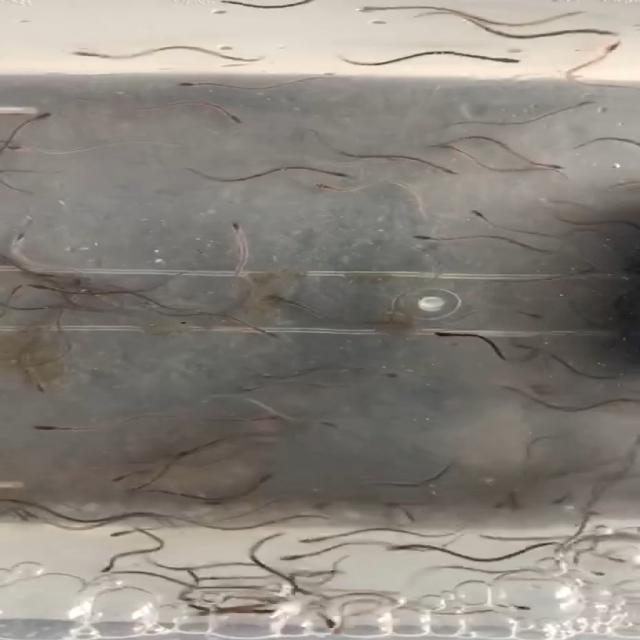active_glass_eel: (386, 222, 456, 245), (152, 70, 215, 93), (24, 416, 74, 443), (206, 110, 264, 128), (490, 50, 533, 74), (254, 286, 304, 306), (340, 2, 391, 20), (85, 556, 131, 575), (528, 154, 576, 172), (239, 466, 286, 484), (584, 20, 630, 38), (17, 379, 64, 396), (372, 540, 416, 558), (301, 179, 344, 196), (8, 228, 44, 247), (100, 520, 132, 541), (431, 165, 464, 185), (27, 280, 68, 296), (62, 43, 98, 61), (458, 203, 496, 220), (0, 141, 36, 158), (244, 325, 279, 342), (215, 219, 250, 235), (376, 366, 411, 382), (261, 552, 298, 566), (107, 469, 139, 485), (25, 109, 56, 125), (423, 142, 461, 155), (328, 164, 354, 182), (294, 530, 323, 546), (6, 281, 34, 297), (600, 38, 626, 55)
